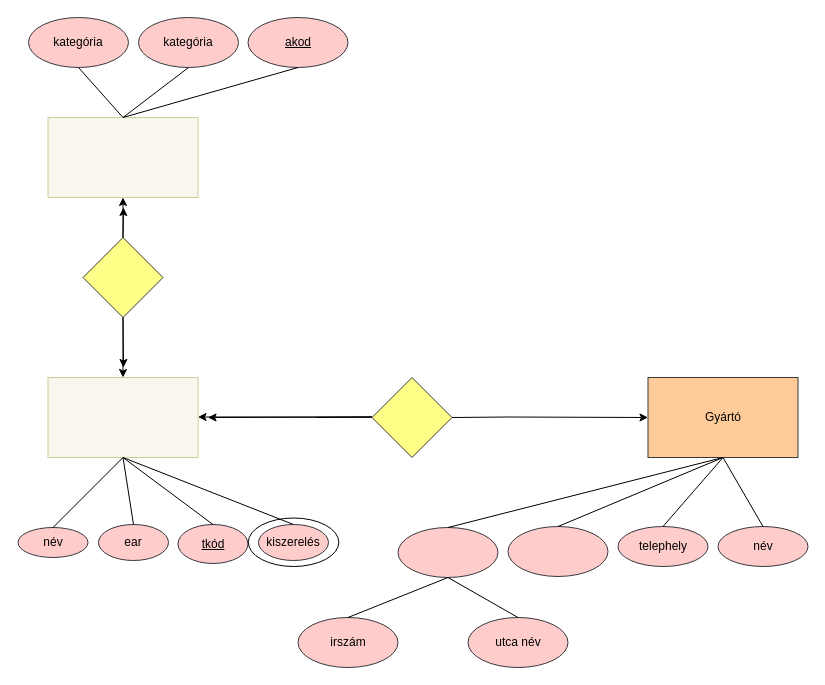
Some shapes in this 825 by 685 pixel diagram are drawn without their labels. Here are the shapes that lost their labels. From the top down, the box of each, then its label:
(47, 116, 198, 198): Alkatrész
(47, 376, 198, 458): Termék
(397, 526, 498, 578): postai cím
(507, 526, 608, 576): adószám
